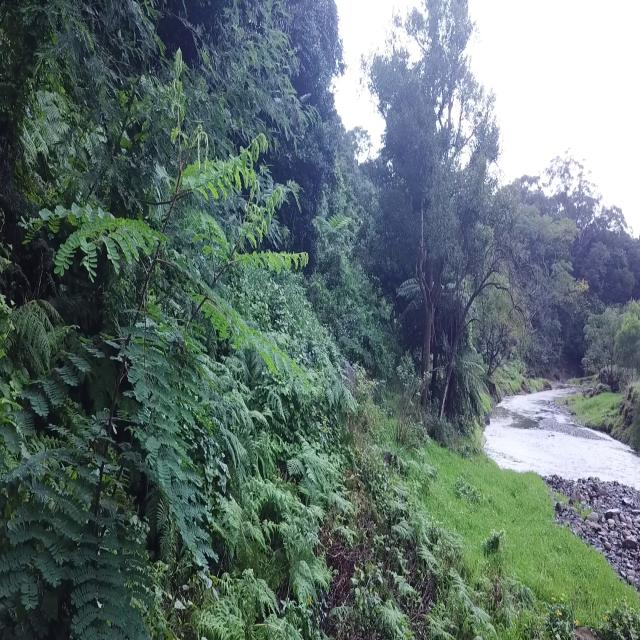Mysore-Thorn-Weed: (0, 45, 313, 640)
